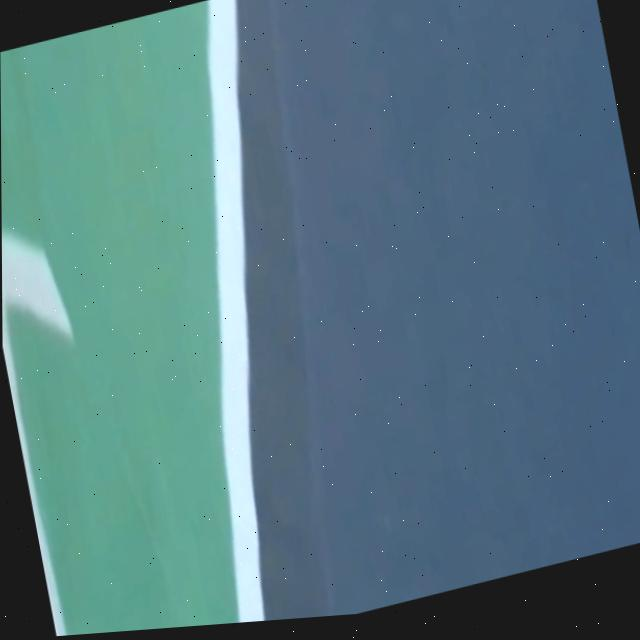right: (207, 0, 264, 623)
